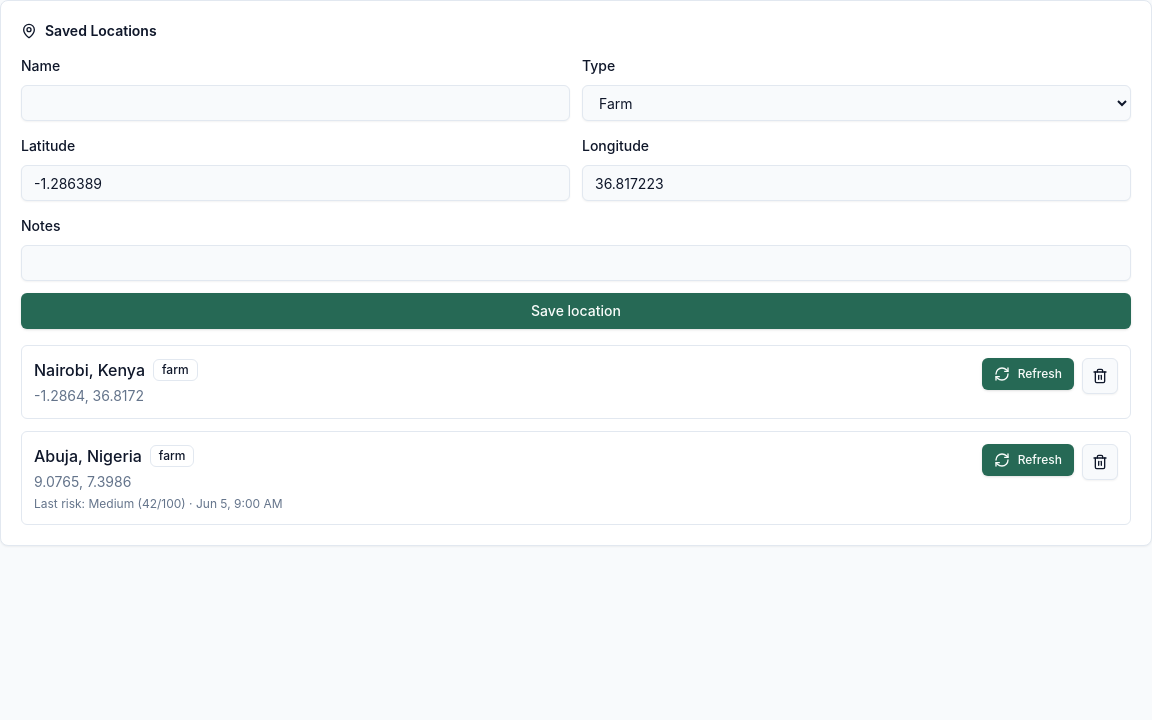
Test: SavedLocationsPanel › creates a location and refreshes the list
In the field labelled "Name": {"x": 296, "y": 103} [21,85,570,121], type "North Farm"
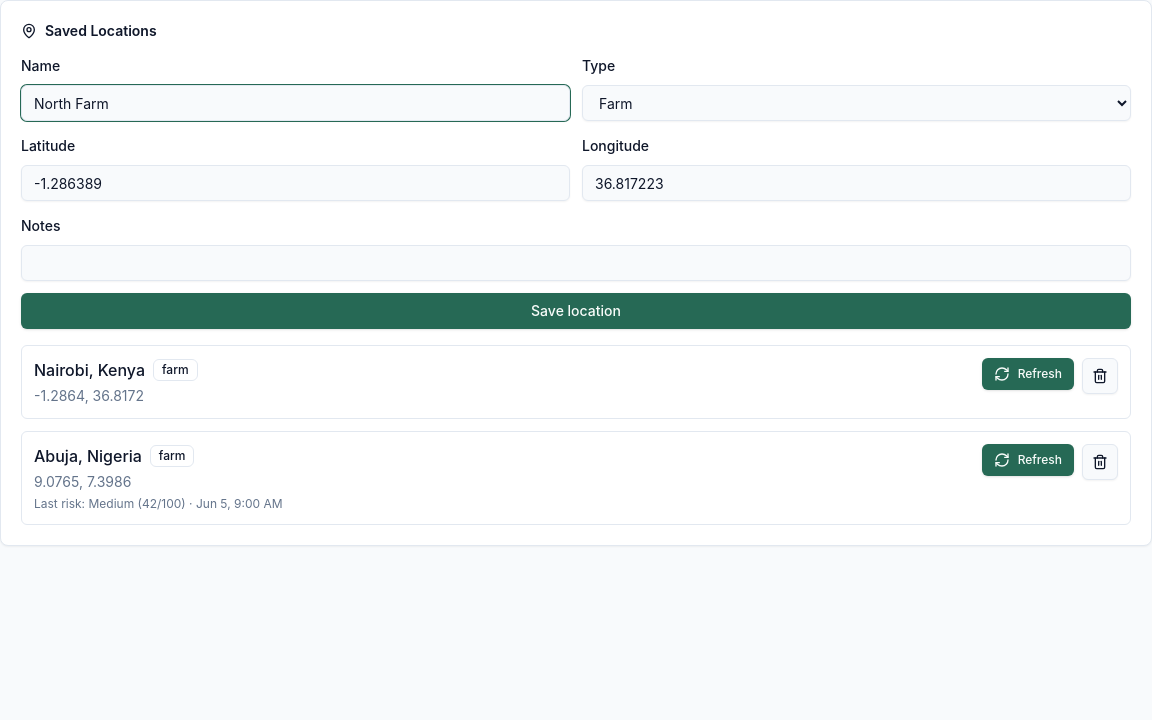
Replace the text in the number field labelled "Latitude" with "9.1": {"x": 296, "y": 183} [21,165,570,201]
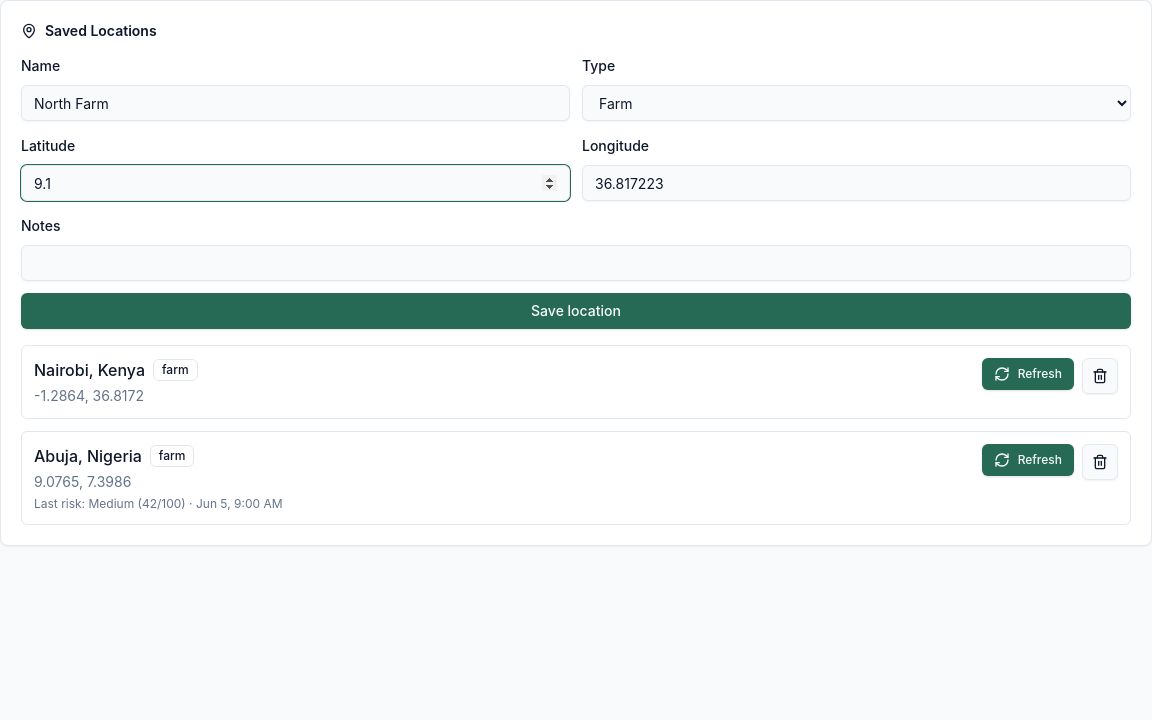
Replace the text in the number field labelled "Longitude" with "7.4": {"x": 856, "y": 183} [582,165,1131,201]
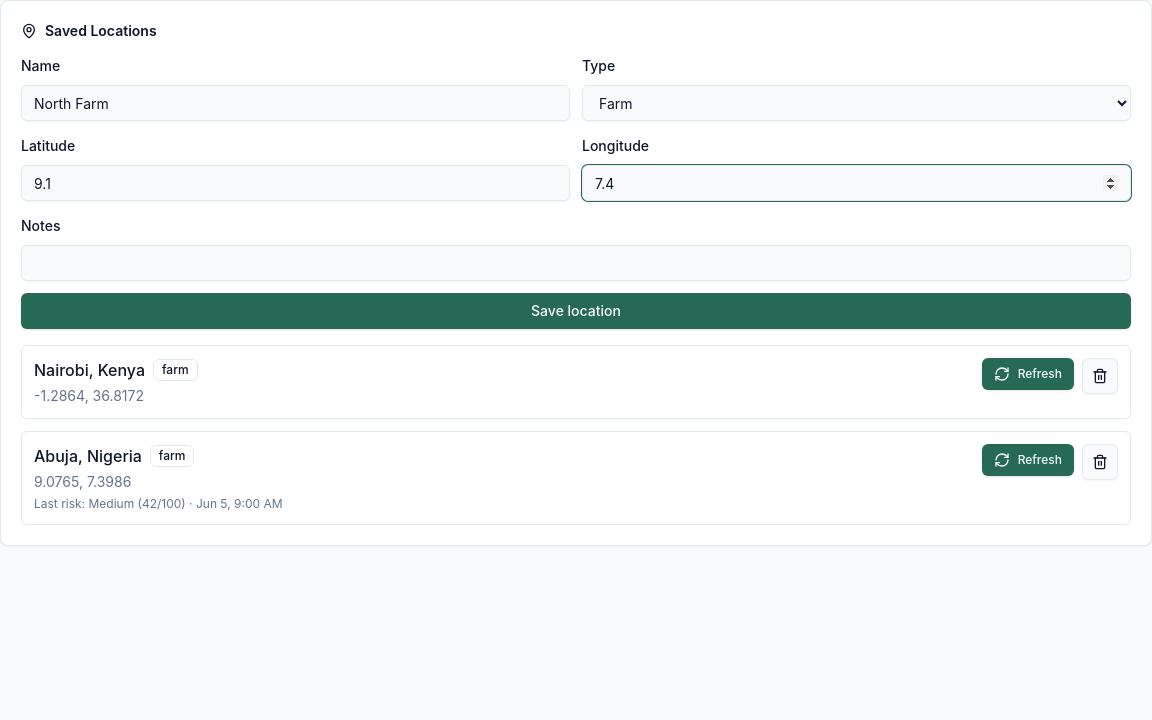
Click the button "Save location": {"x": 576, "y": 311} [21,293,1131,329]
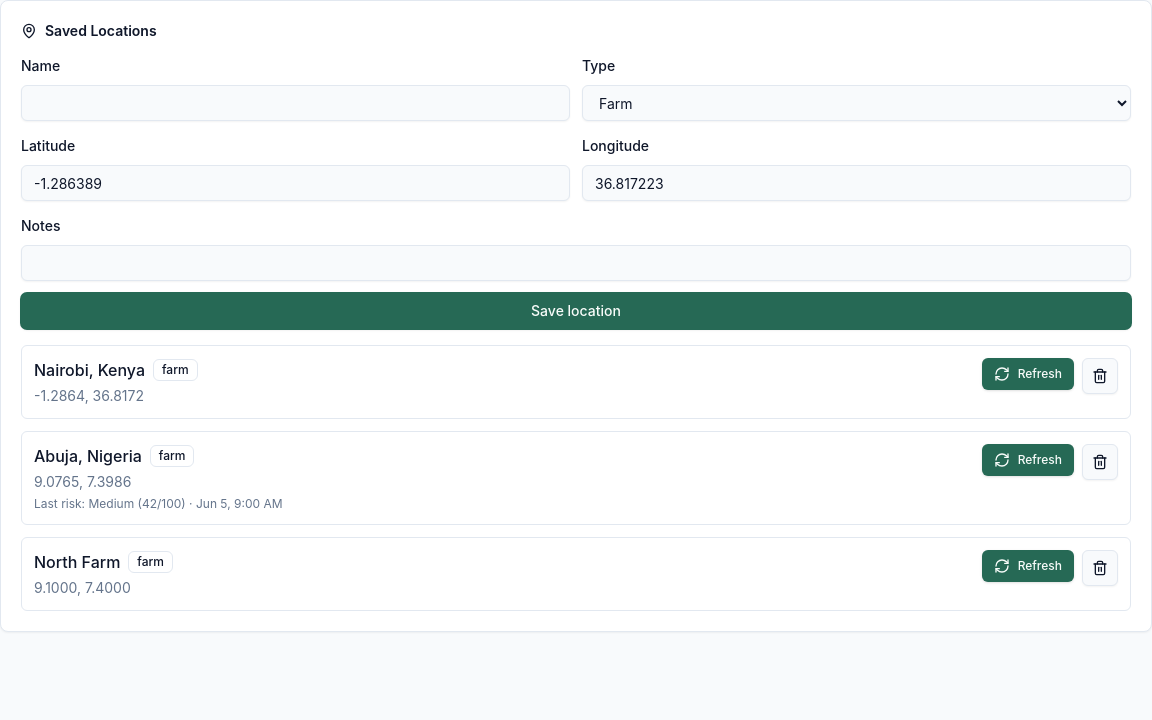
Check: the text "North Farm" is shown, box [34,550,120,574]
